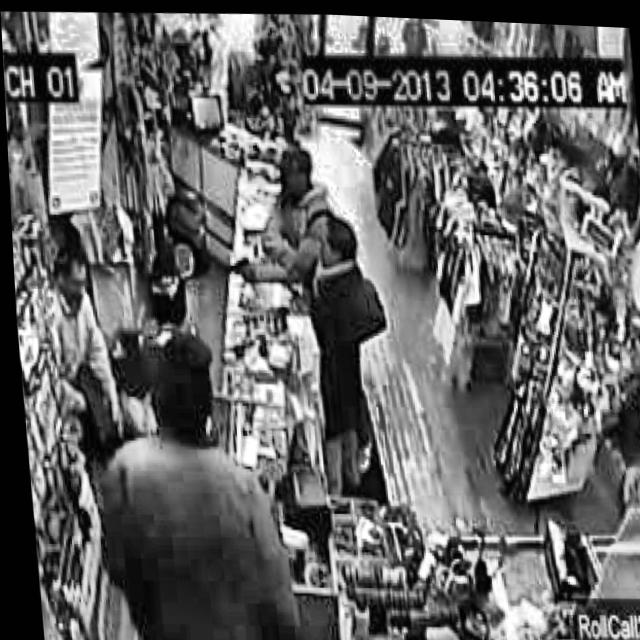robbery: (206, 135, 398, 496)
